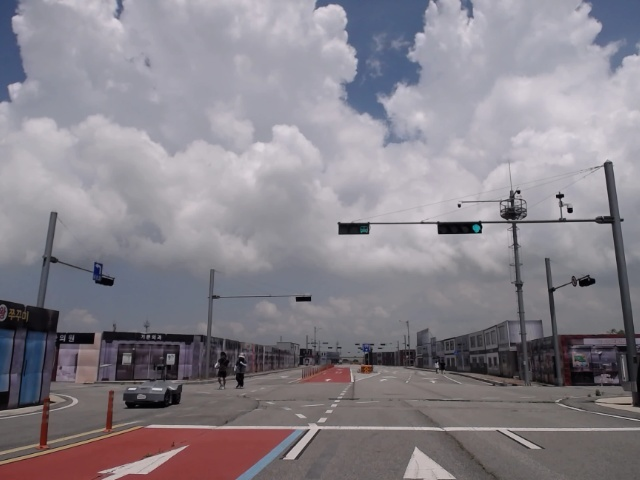straight_green_4: (436, 224, 481, 234)
